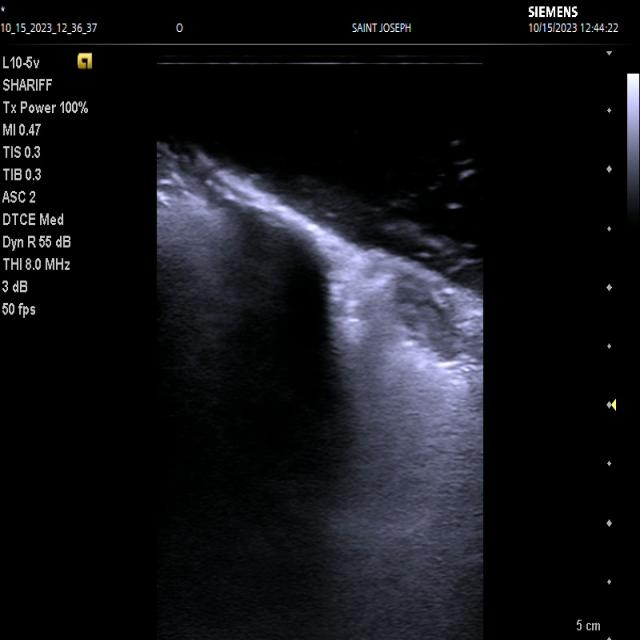tissue: (151, 140, 484, 640)
